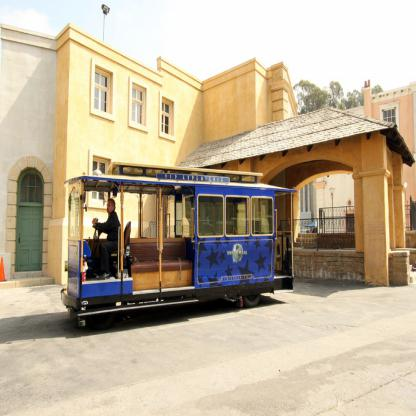Bus: (61, 160, 298, 328)
